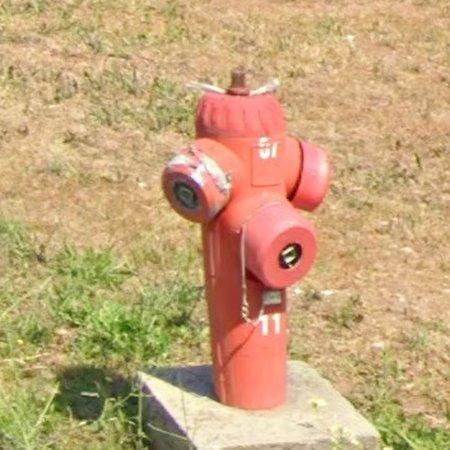a fire hydrant: (163, 72, 331, 410)
